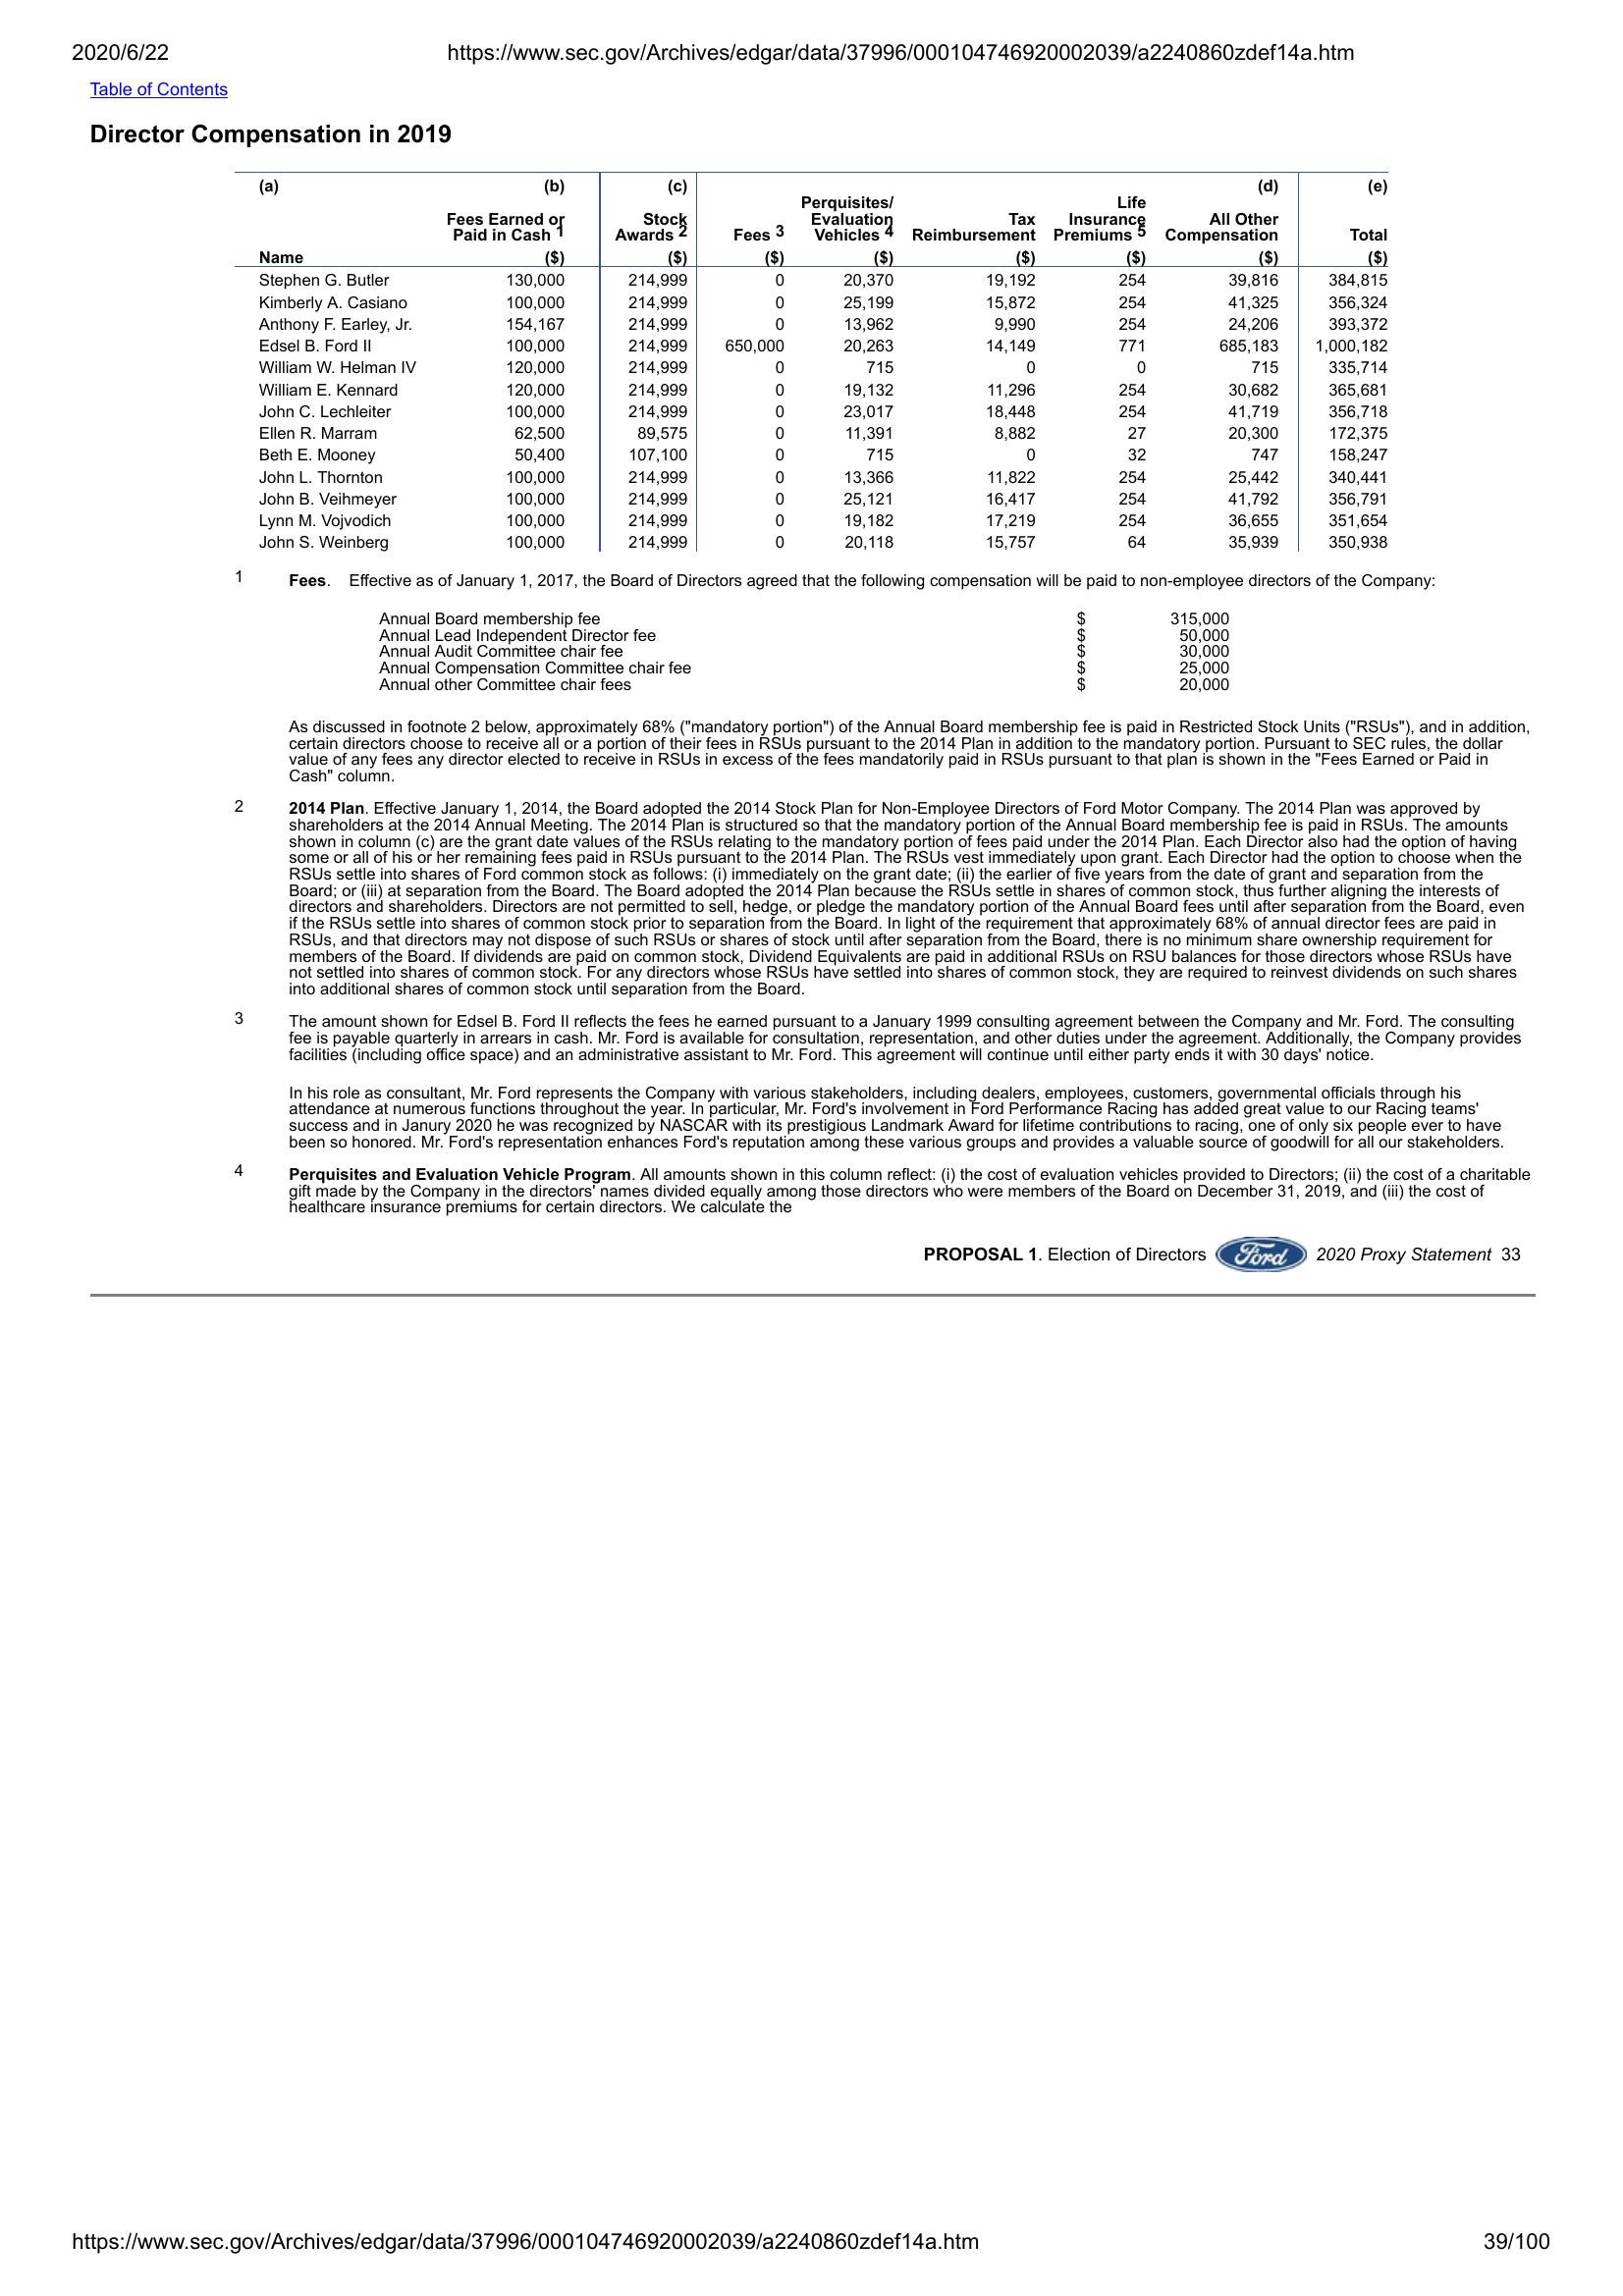table: (227, 163, 1403, 558), (372, 602, 1237, 697)
